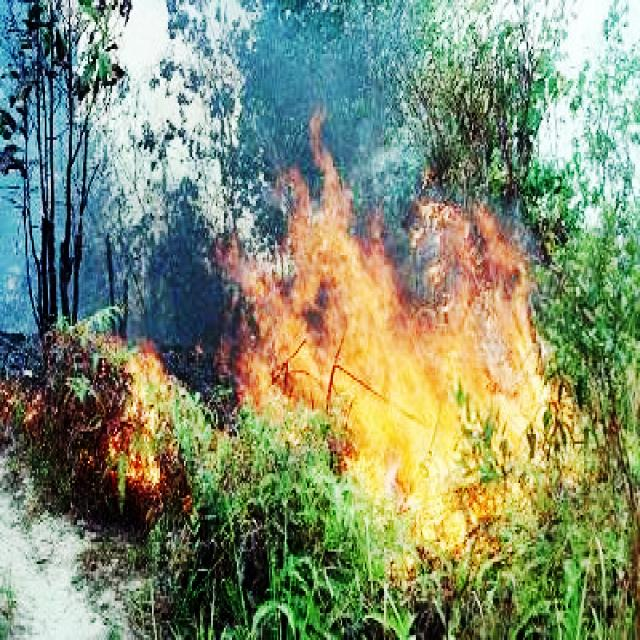api: (266, 217, 549, 481), (394, 482, 486, 561), (118, 345, 168, 484)
